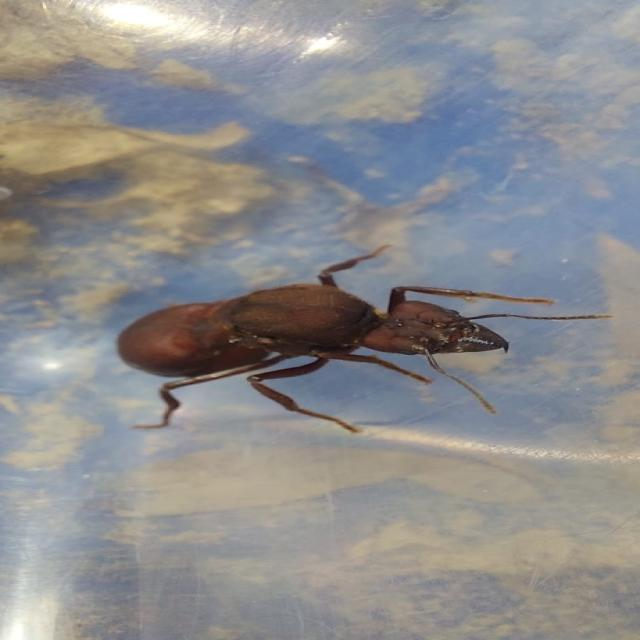Alive-Female-Dealate: (115, 243, 616, 434)
